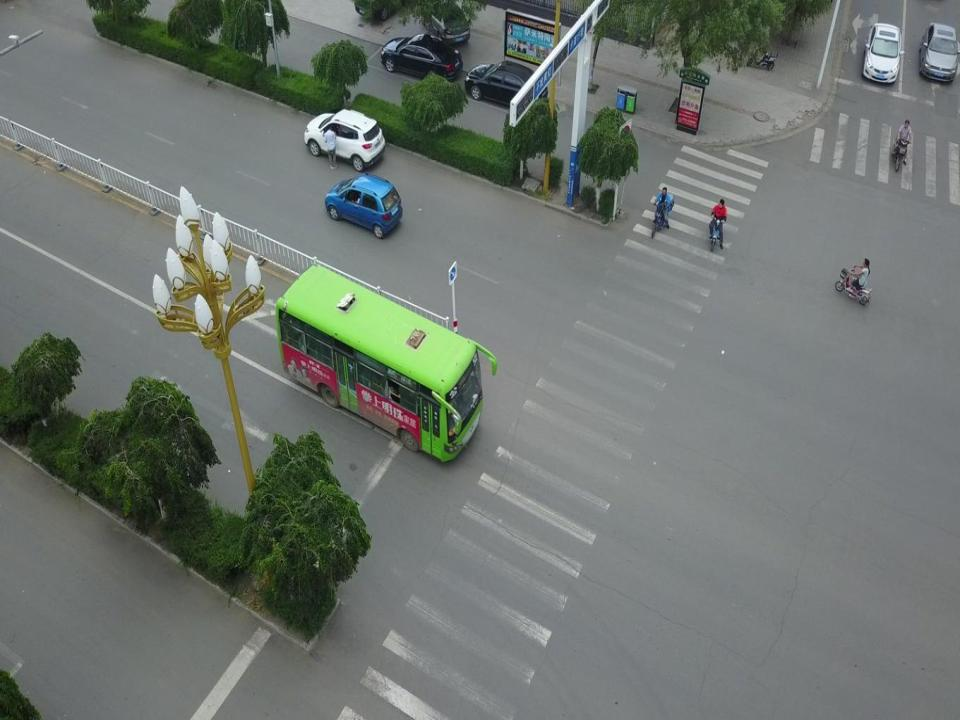bus: (275, 264, 498, 463)
car: (303, 108, 386, 174), (325, 173, 402, 239), (466, 59, 549, 117), (380, 32, 464, 83), (863, 22, 904, 90), (918, 22, 960, 86), (421, 0, 471, 45)
